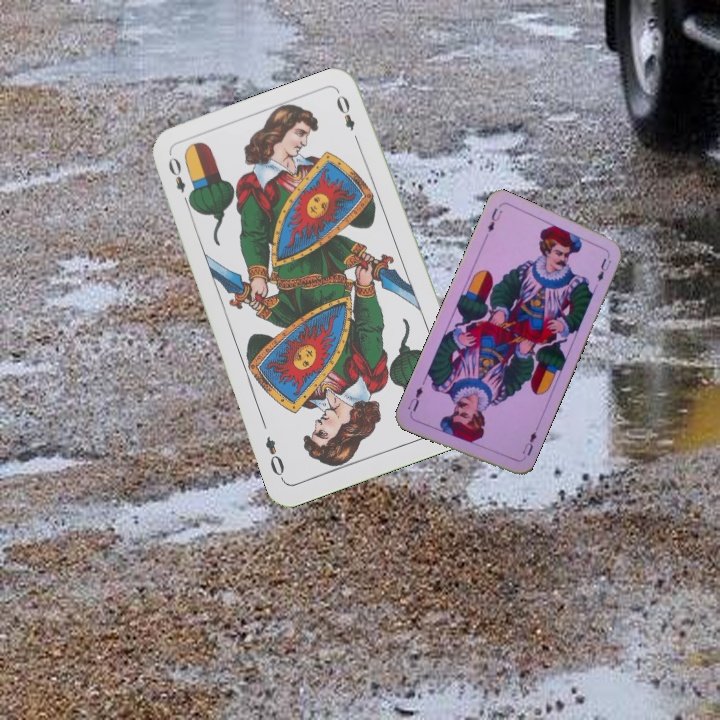EO: (164, 153, 195, 209)
EU: (516, 425, 539, 463), (483, 204, 505, 234)
